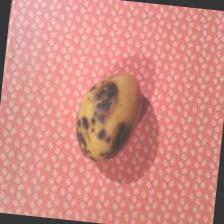Mango Rotten: (71, 66, 146, 165)
